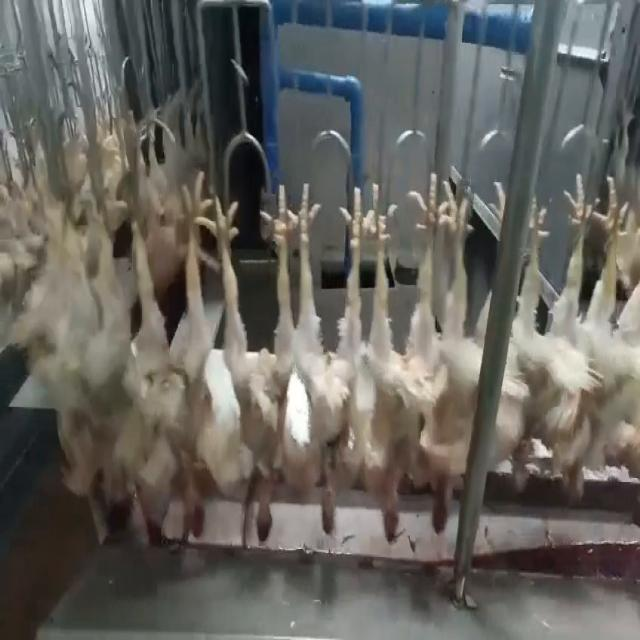chicken: (352, 163, 454, 552), (112, 171, 210, 549), (496, 172, 604, 506), (199, 174, 294, 551), (288, 173, 371, 543), (557, 160, 640, 499), (420, 152, 488, 534)
